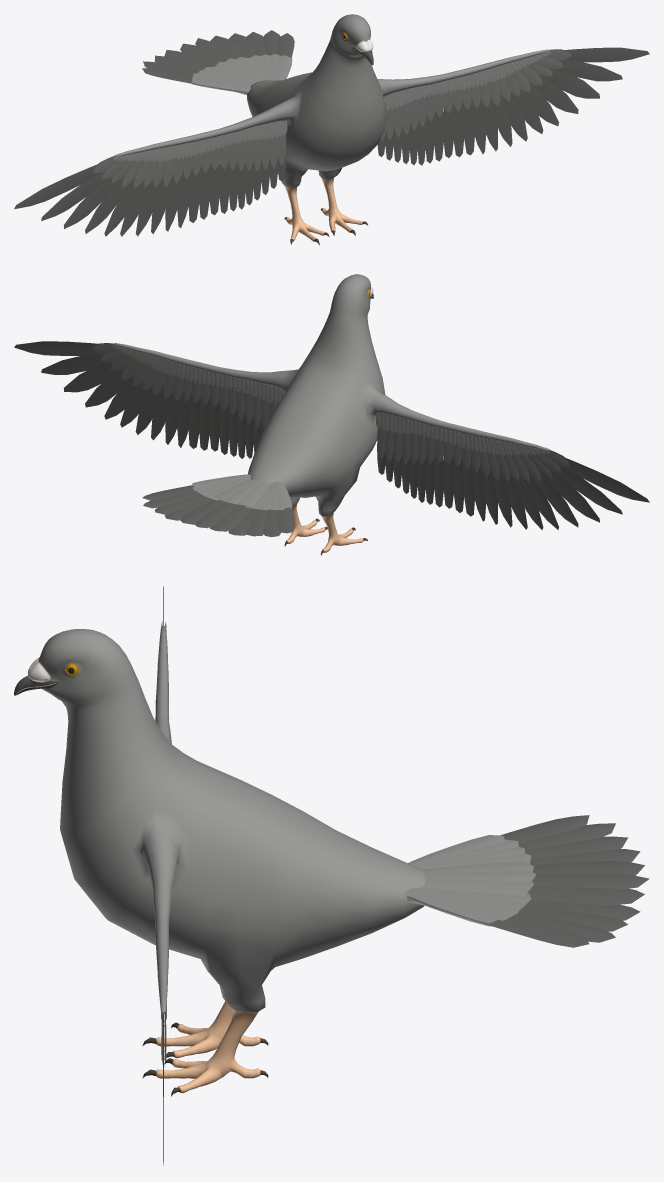
File: pigeon.glb
3 renders of one model, top to bottom at view 1: azimuth 30°, elevation 25°; view 2: azimuth 150°, elevation 25°; view 3: azimuth 270°, elevation 25°, orthographic. The views are drawn at different scales.
Visible parts, largest first — view 1: Pigeon_Body, Pigeon_WingFeathers_R, Pigeon_WingFeathers_L, Pigeon_TailFeathers; view 2: Pigeon_Body, Pigeon_WingFeathers_R, Pigeon_WingFeathers_L, Pigeon_TailFeathers; view 3: Pigeon_Body, Pigeon_TailFeathers.
Part boxes in pixels (x1,y1,x2,y2): Pigeon_Body: [114, 14, 549, 245]; Pigeon_WingFeathers_R: [14, 120, 287, 236]; Pigeon_WingFeathers_L: [377, 47, 649, 165]; Pigeon_TailFeathers: [142, 30, 294, 94]; Pigeon_Body: [114, 274, 549, 555]; Pigeon_WingFeathers_R: [376, 413, 649, 529]; Pigeon_WingFeathers_L: [14, 341, 284, 458]; Pigeon_TailFeathers: [142, 474, 294, 537]; Pigeon_Body: [14, 625, 425, 1096]; Pigeon_TailFeathers: [405, 815, 649, 947].
Bounding box in the file's own units: 11.57 × 4.12 × 5.51.
Materials: 1 (1 with a texture image).
